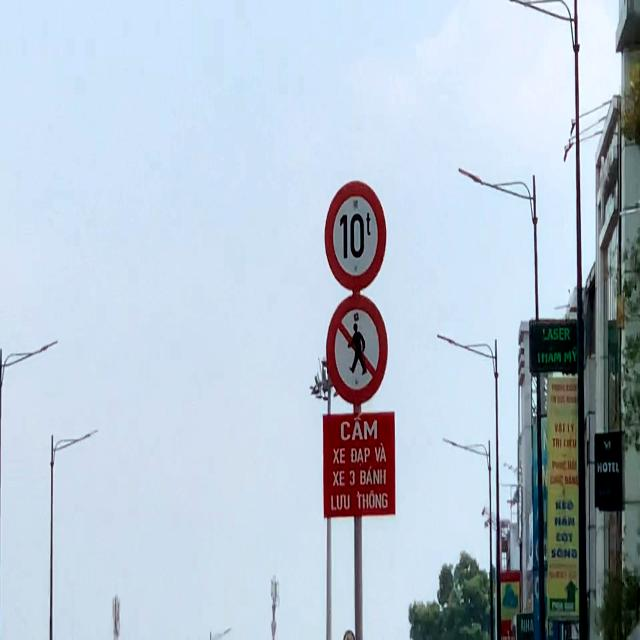P.112: (327, 295, 388, 402)
P.115: (323, 182, 389, 290)
